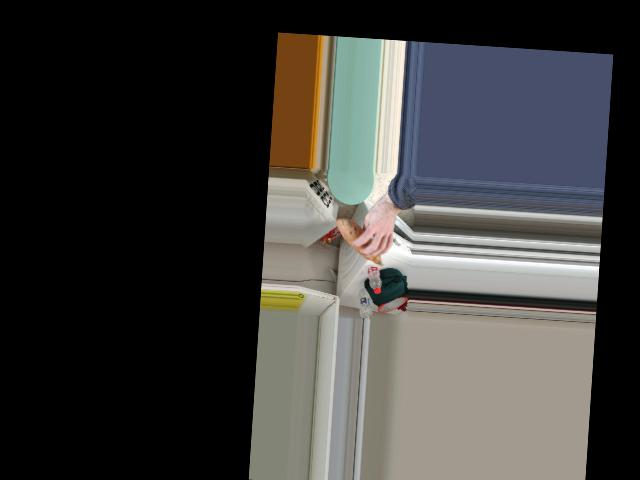sweet_potato: (337, 219, 389, 264)
